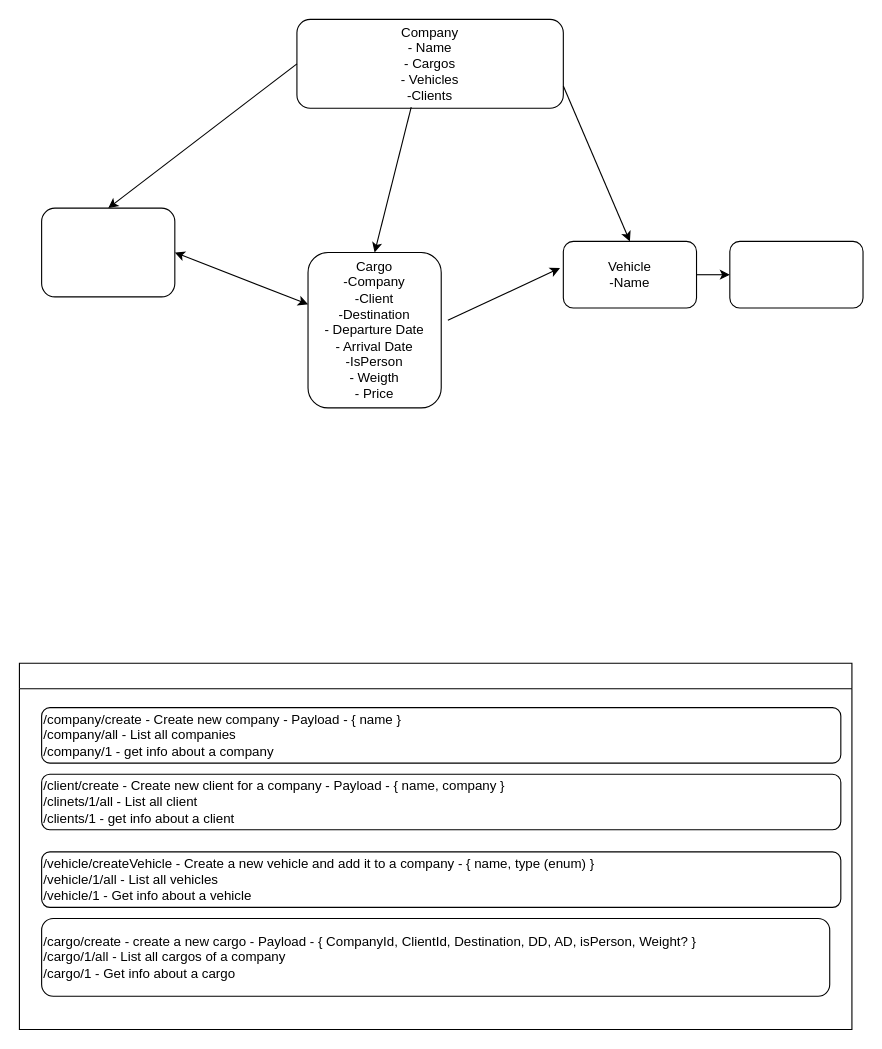
Some shapes in this 882 by 1049 pixel diagram are drawn without their labels. The box of each missing label's shape, as (x1, y1, x2, y2) in pixels:
Client Name List<Cargo>: (41, 207, 175, 297)
MVP: (18, 662, 852, 1030)
vehicle enum type - Bus - TIR - Lorry: (729, 240, 863, 308)
